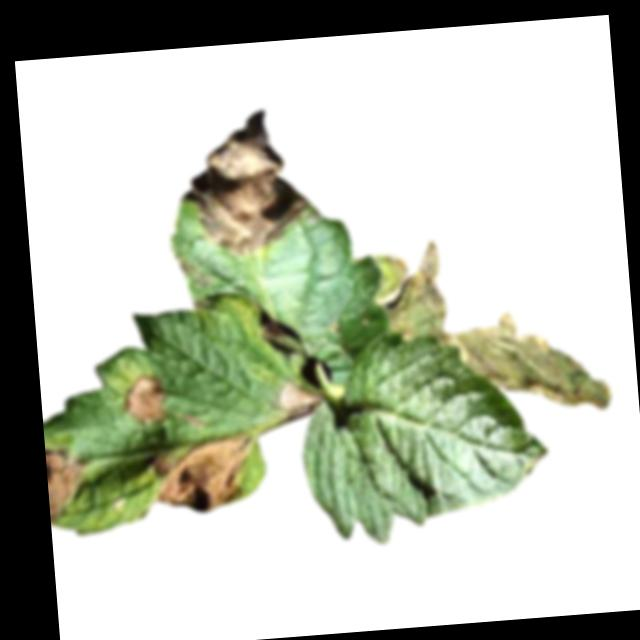Late_blight: (176, 104, 315, 259), (449, 303, 612, 421), (143, 429, 260, 518), (376, 236, 449, 342), (45, 444, 90, 524), (121, 371, 166, 427), (273, 379, 324, 422), (175, 250, 213, 291), (256, 304, 288, 346), (177, 412, 204, 429)
healthy: (291, 320, 554, 551)
